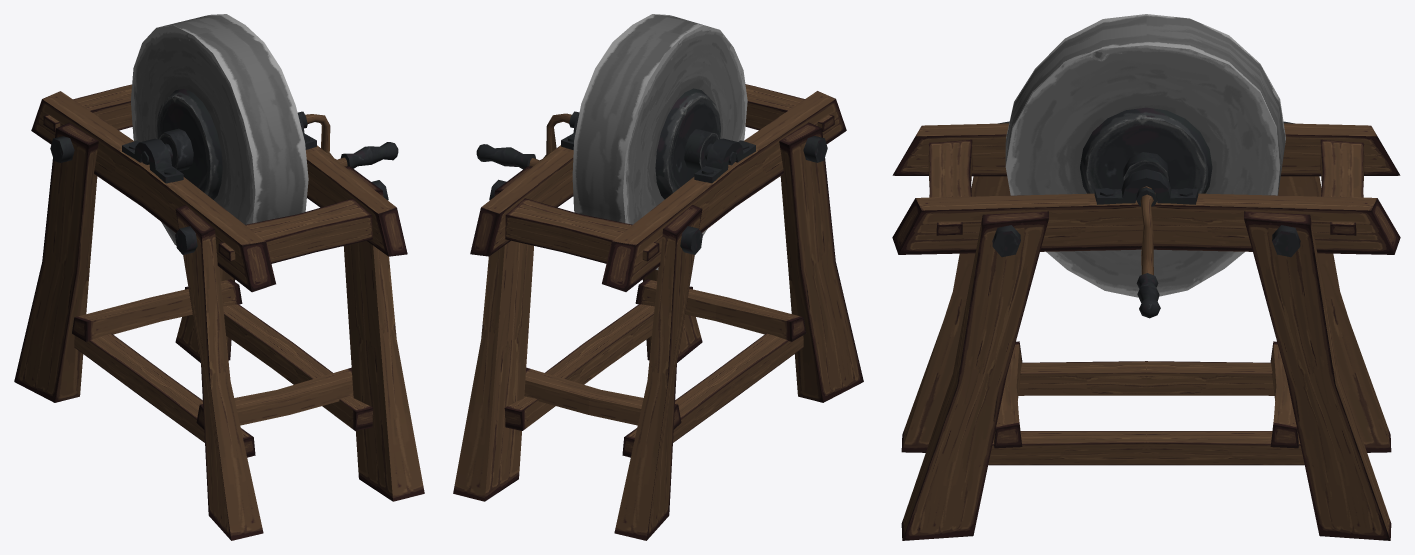
The model's file is SM_PROP_grinder_battle.fbx.
3 renders of one model, left to right at view 1: azimuth 30°, elevation 25°; view 2: azimuth 150°, elevation 25°; view 3: azimuth 270°, elevation 25°, orthographic. The views are drawn at different scales.
Visible parts, largest first — view 1: SM_PROP_grinder_battle, SM_PROP_grinder_wheel_battle; view 2: SM_PROP_grinder_battle, SM_PROP_grinder_wheel_battle; view 3: SM_PROP_grinder_battle, SM_PROP_grinder_wheel_battle.
Part boxes in pixels (box(x1,y1,x2,y2)): SM_PROP_grinder_battle: box(14, 84, 424, 540); SM_PROP_grinder_wheel_battle: box(131, 14, 398, 245); SM_PROP_grinder_battle: box(453, 84, 863, 540); SM_PROP_grinder_wheel_battle: box(476, 14, 747, 269); SM_PROP_grinder_battle: box(892, 121, 1400, 540); SM_PROP_grinder_wheel_battle: box(1005, 14, 1285, 318).
Size of the model in its own units: 87.04 by 121 by 121.
